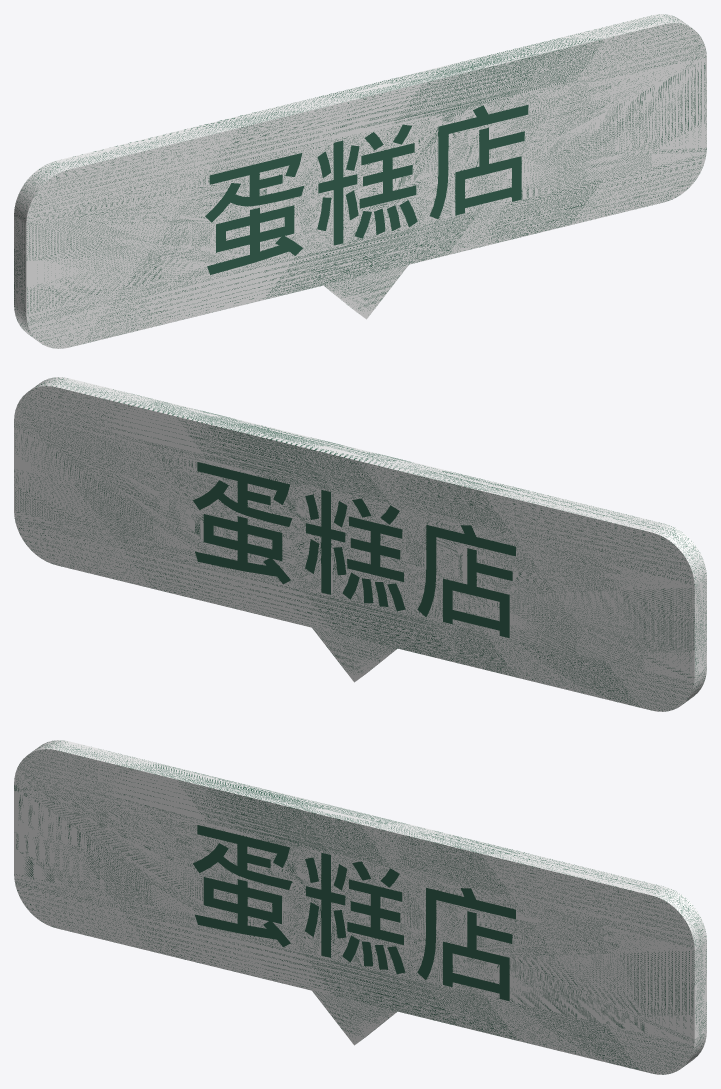
The model's file is titleRestauranttw.dae.
The picture shows the model from 3 angles, top to bottom: view 1: azimuth 30°, elevation 25°; view 2: azimuth 150°, elevation 25°; view 3: azimuth 330°, elevation 25°; orthographic projection.
Parts seen in each view (by area): view 1: 差異 (×2), instance_0 (×6); view 2: 差異 (×2), instance_1 (×6); view 3: 差異 (×2), instance_0 (×6).
Boxes of the visible parts, <box> form: 差異 (×2): <box>14,14,706,348</box>; instance_0 (×6): <box>205,105,528,274</box>; 差異 (×2): <box>14,377,706,711</box>; instance_1 (×6): <box>193,462,515,638</box>; 差異 (×2): <box>14,740,706,1074</box>; instance_0 (×6): <box>193,825,515,1001</box>.
Size of the model in its own units: 630 by 19.69 by 197.
